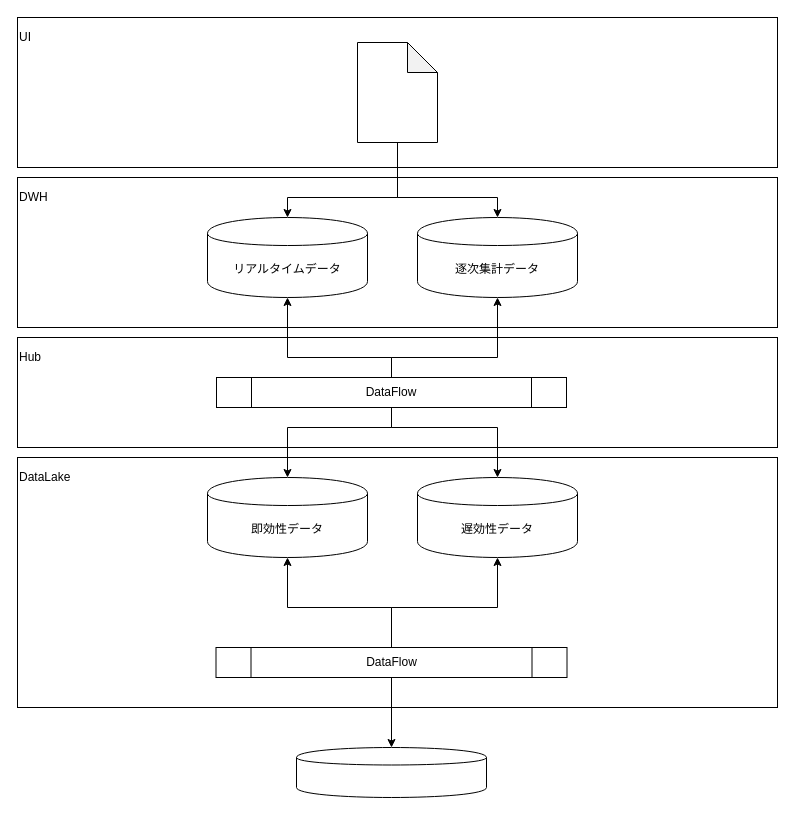
Some shapes in this 795 by 815 pixel diagram are drawn without their labels. The box of each missing label's shape, as (x1, y1, x2, y2) in pixels:
レポート: (356, 42, 438, 142)
外部DB: (296, 746, 486, 798)
